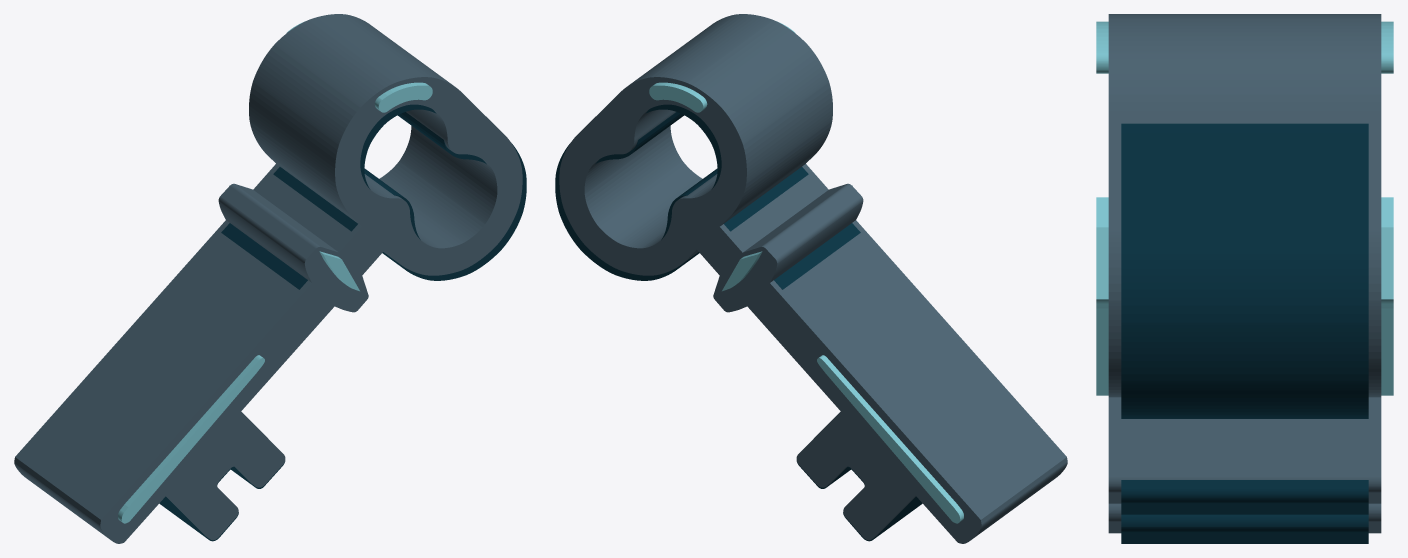
3 views of the same model, side by side, from view 1: azimuth 30°, elevation 25°; view 2: azimuth 150°, elevation 25°; view 3: azimuth 270°, elevation 25° (orthographic). The views are drawn at different scales.
Parts seen in each view (by area): view 1: U+1F5DD_layer01_obj00, U+1F5DD_layer00_obj00, U+1F5DD_layer02_obj00, U+1F5DD_layer00_obj02, U+1F5DD_layer00_obj04, U+1F5DD_layer02_obj02; view 2: U+1F5DD_layer01_obj00, U+1F5DD_layer00_obj00, U+1F5DD_layer02_obj00, U+1F5DD_layer00_obj02, U+1F5DD_layer00_obj04, U+1F5DD_layer02_obj02; view 3: U+1F5DD_layer00_obj00, U+1F5DD_layer01_obj00, U+1F5DD_layer00_obj03, U+1F5DD_layer02_obj01, U+1F5DD_layer02_obj00, U+1F5DD_layer02_obj02.
Boxes of the visible parts, <box> form: U+1F5DD_layer01_obj00: <box>14,14,522,543</box>; U+1F5DD_layer00_obj00: <box>360,104,526,280</box>; U+1F5DD_layer02_obj00: <box>118,355,264,523</box>; U+1F5DD_layer00_obj02: <box>221,223,307,289</box>; U+1F5DD_layer00_obj04: <box>273,167,357,231</box>; U+1F5DD_layer02_obj02: <box>287,21,432,112</box>; U+1F5DD_layer01_obj00: <box>559,14,1067,543</box>; U+1F5DD_layer00_obj00: <box>555,104,721,280</box>; U+1F5DD_layer02_obj00: <box>817,355,963,523</box>; U+1F5DD_layer00_obj02: <box>774,223,860,289</box>; U+1F5DD_layer00_obj04: <box>724,167,808,231</box>; U+1F5DD_layer02_obj02: <box>649,21,794,112</box>; U+1F5DD_layer00_obj00: <box>1121,123,1368,418</box>; U+1F5DD_layer01_obj00: <box>1108,14,1381,533</box>; U+1F5DD_layer00_obj03: <box>1121,480,1368,543</box>; U+1F5DD_layer02_obj01: <box>1096,197,1393,299</box>; U+1F5DD_layer02_obj00: <box>1096,299,1393,395</box>; U+1F5DD_layer02_obj02: <box>1096,21,1393,73</box>.
Bounding box in the file's own units: 0.3172 × 0.2949 × 0.12.
